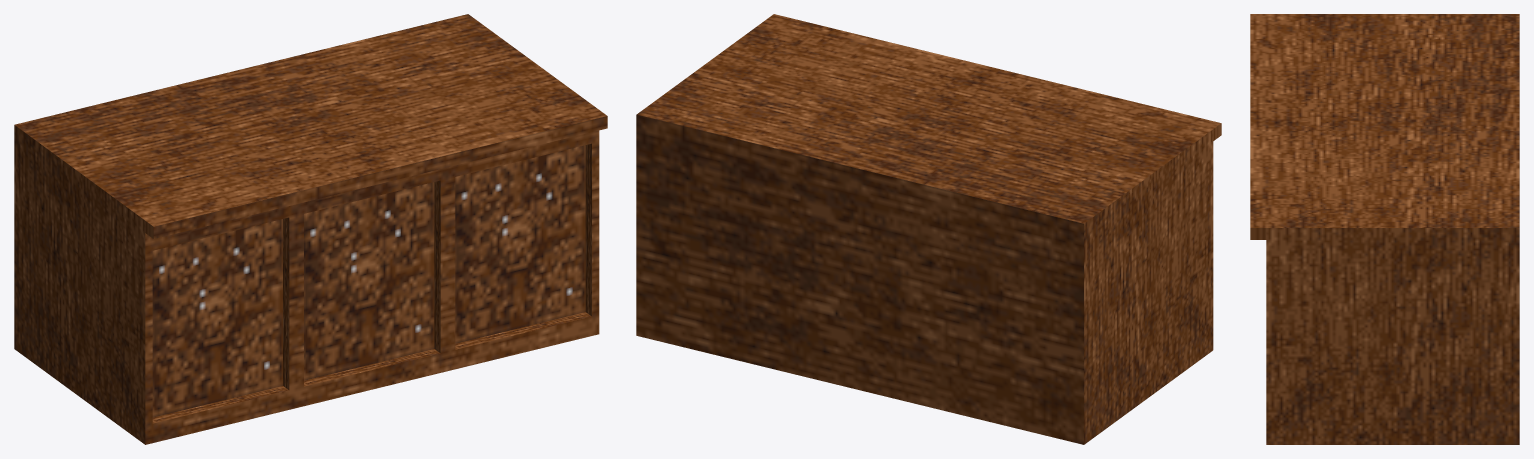
File: SM_Dungeon_Counter.fbx
The picture shows the model from 3 angles, left to right: view 1: azimuth 30°, elevation 25°; view 2: azimuth 150°, elevation 25°; view 3: azimuth 270°, elevation 25°; orthographic projection. The views are drawn at different scales.
Visible parts, largest first — view 1: SM_Dungeon_Counter; view 2: SM_Dungeon_Counter; view 3: SM_Dungeon_Counter.
Part boxes in pixels (x1,y1,x2,y2): SM_Dungeon_Counter: (14, 14, 607, 444); SM_Dungeon_Counter: (636, 14, 1221, 444); SM_Dungeon_Counter: (1250, 14, 1519, 444).
Bounding box in the file's own units: 200 × 94.44 × 106.
